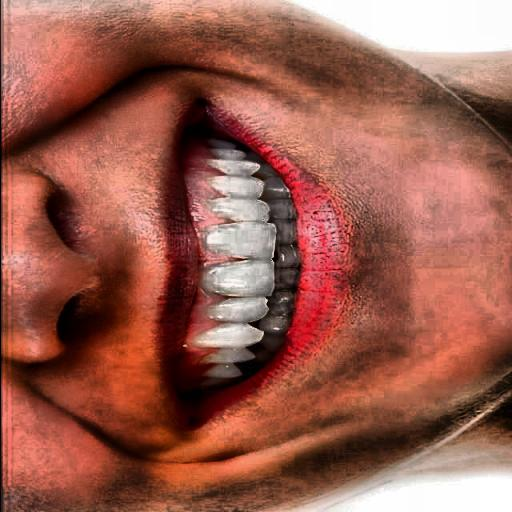Healthy: (162, 96, 372, 398)
